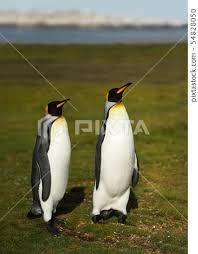king: (19, 83, 87, 237), (89, 76, 153, 230)
